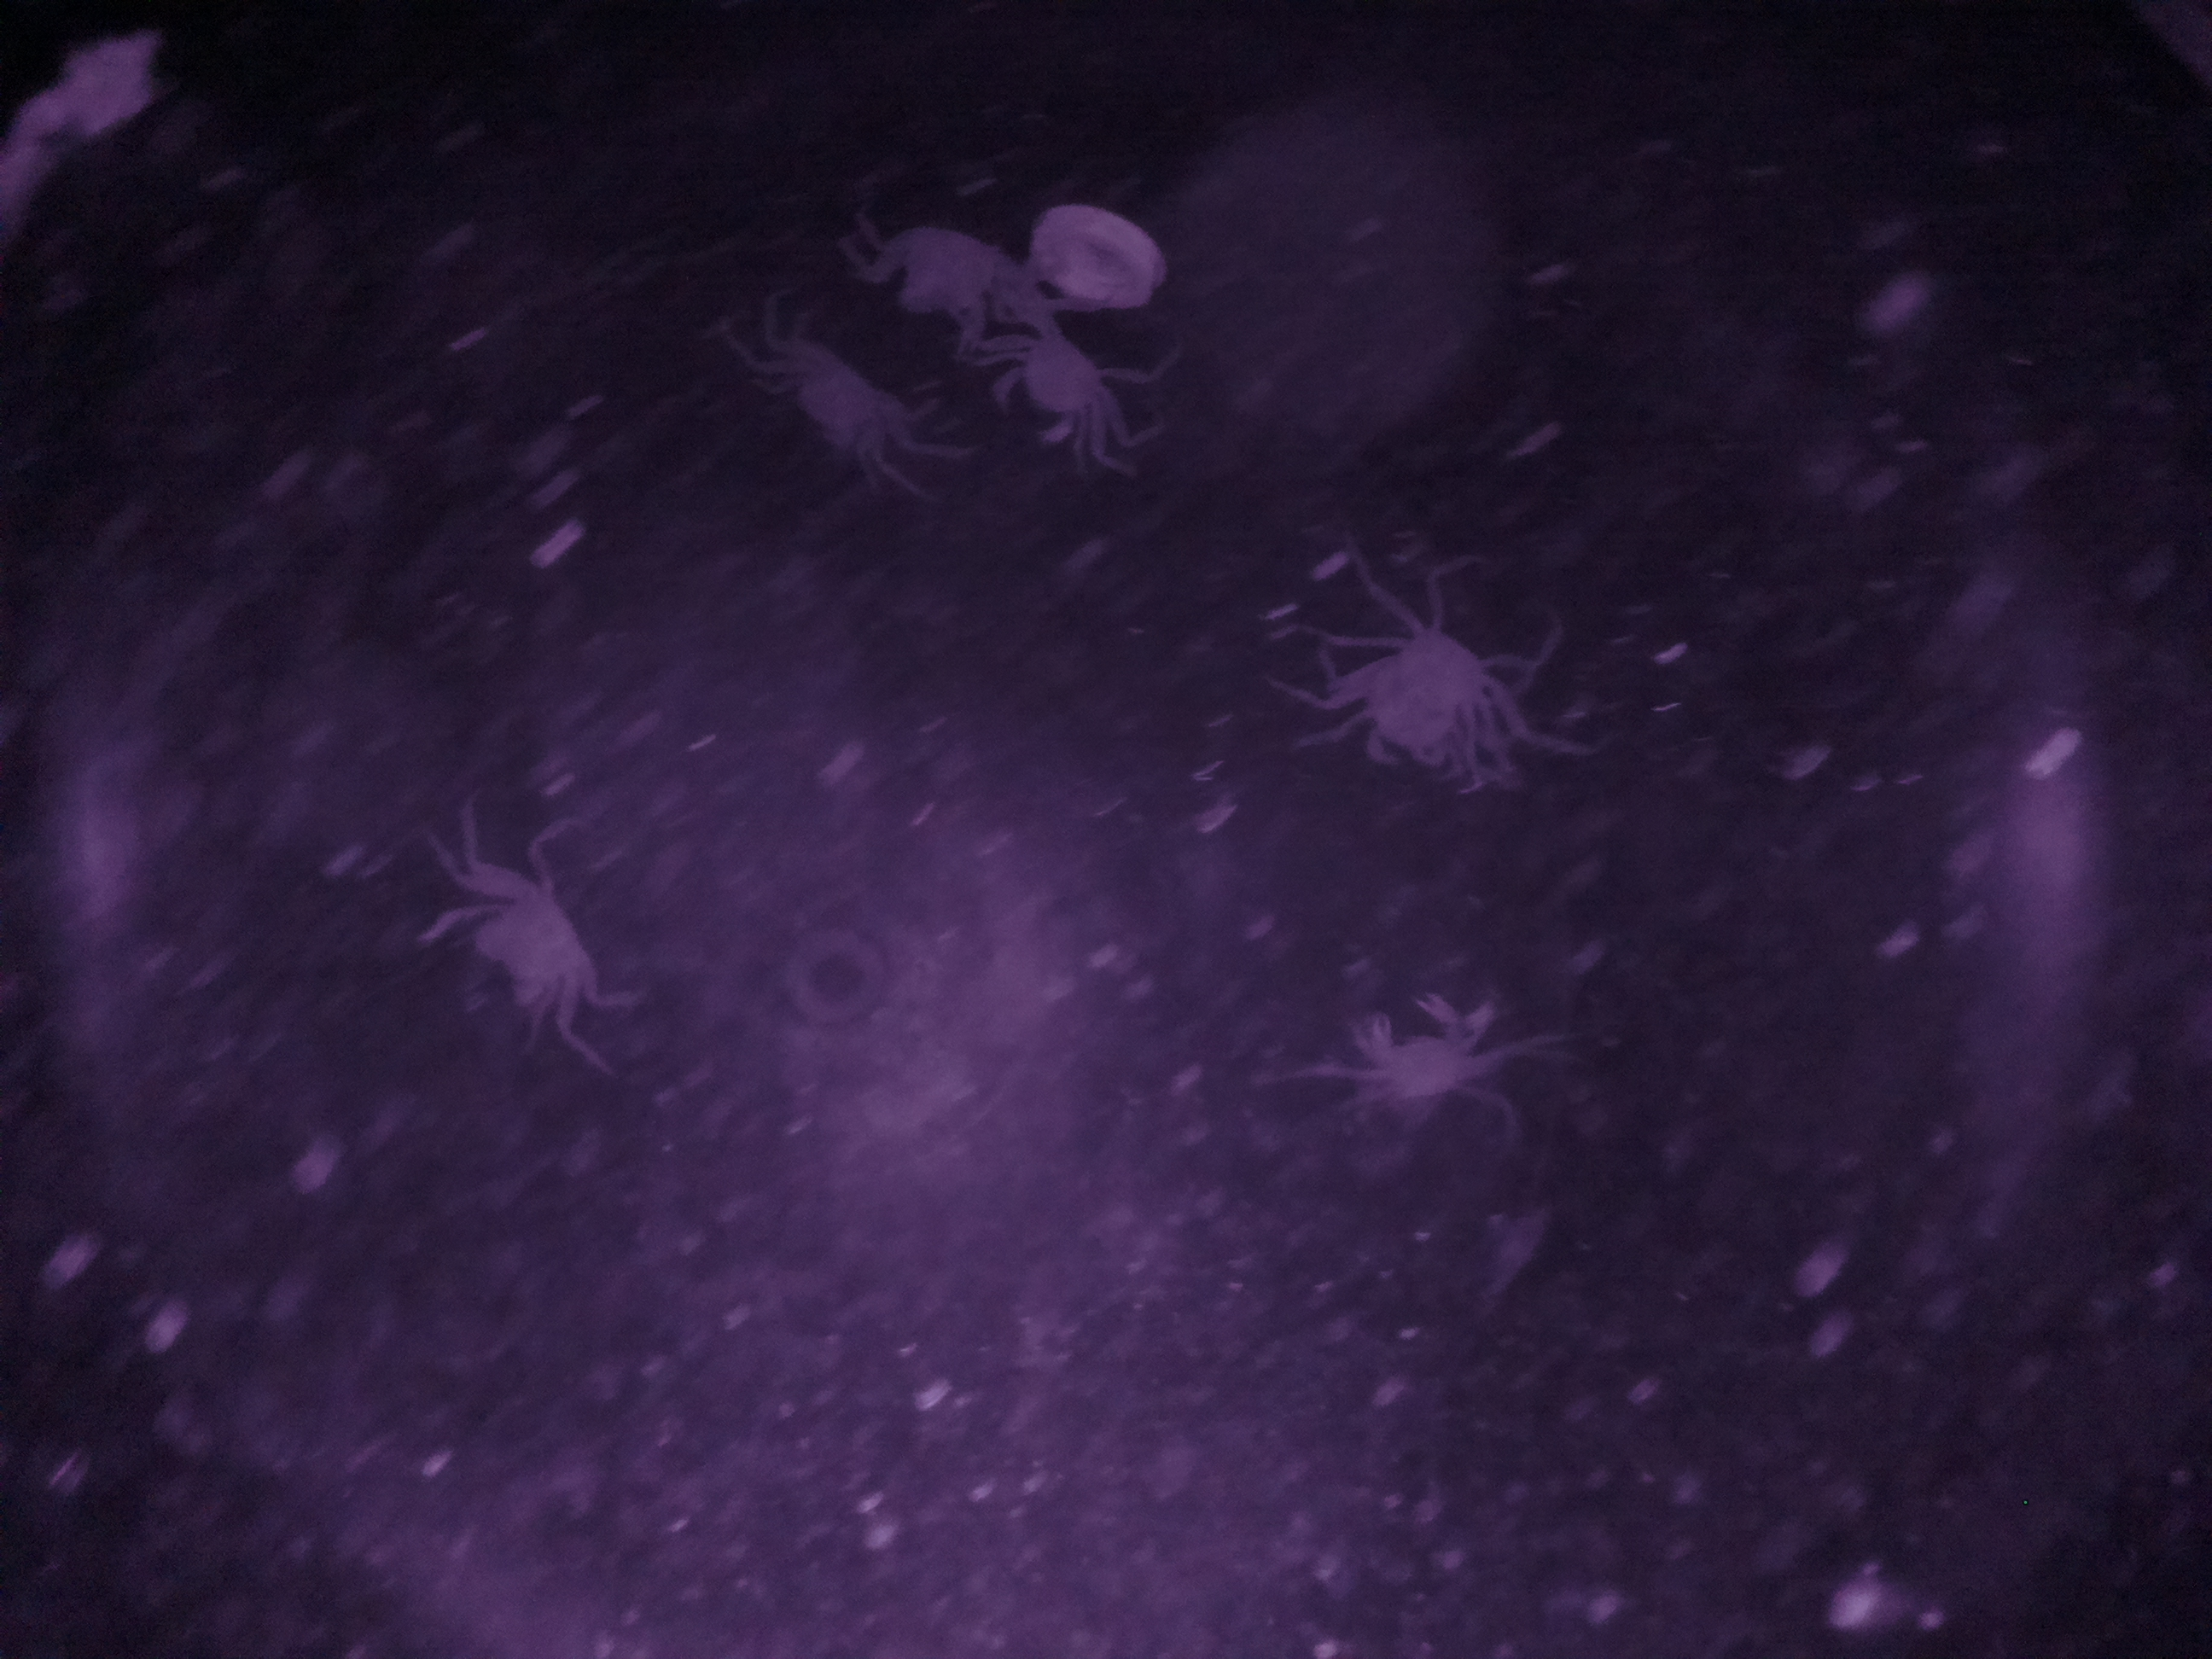Crab: (441, 835, 629, 1061), (961, 282, 1167, 467), (752, 315, 932, 488)
